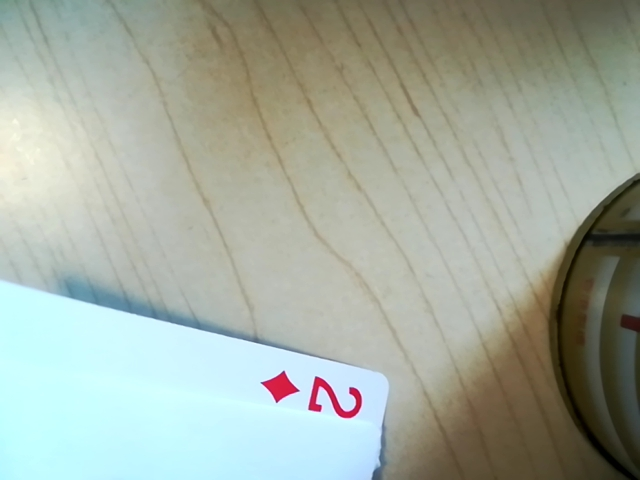fk 2: (251, 365, 383, 427)
